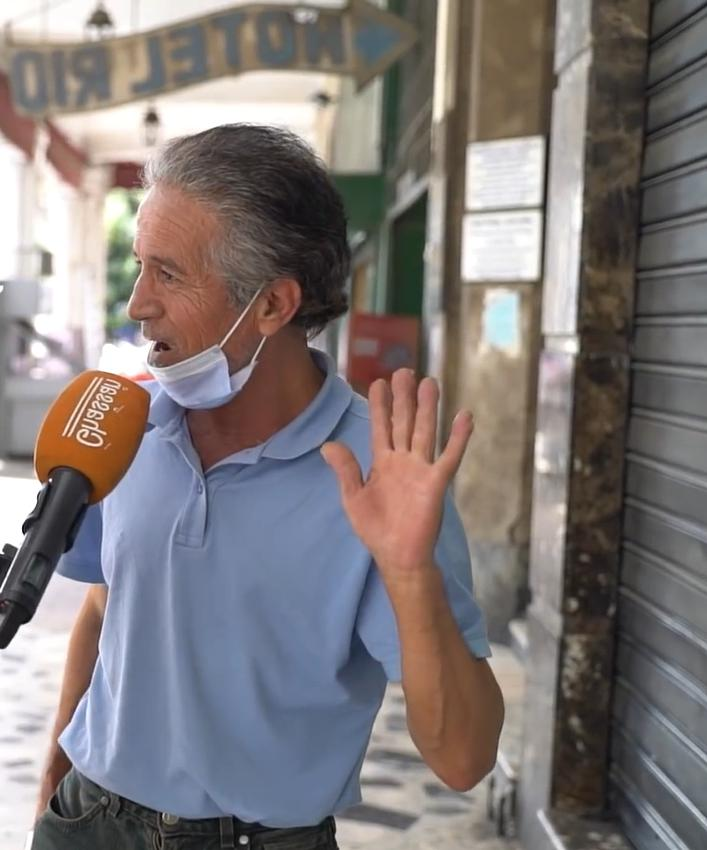with_incorrect_mask: (134, 235, 252, 373)
